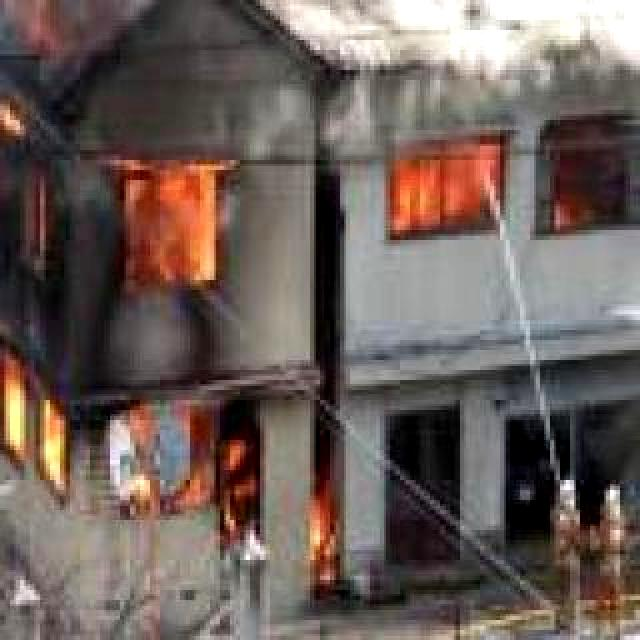fire: (0, 0, 356, 602), (394, 136, 580, 240)
